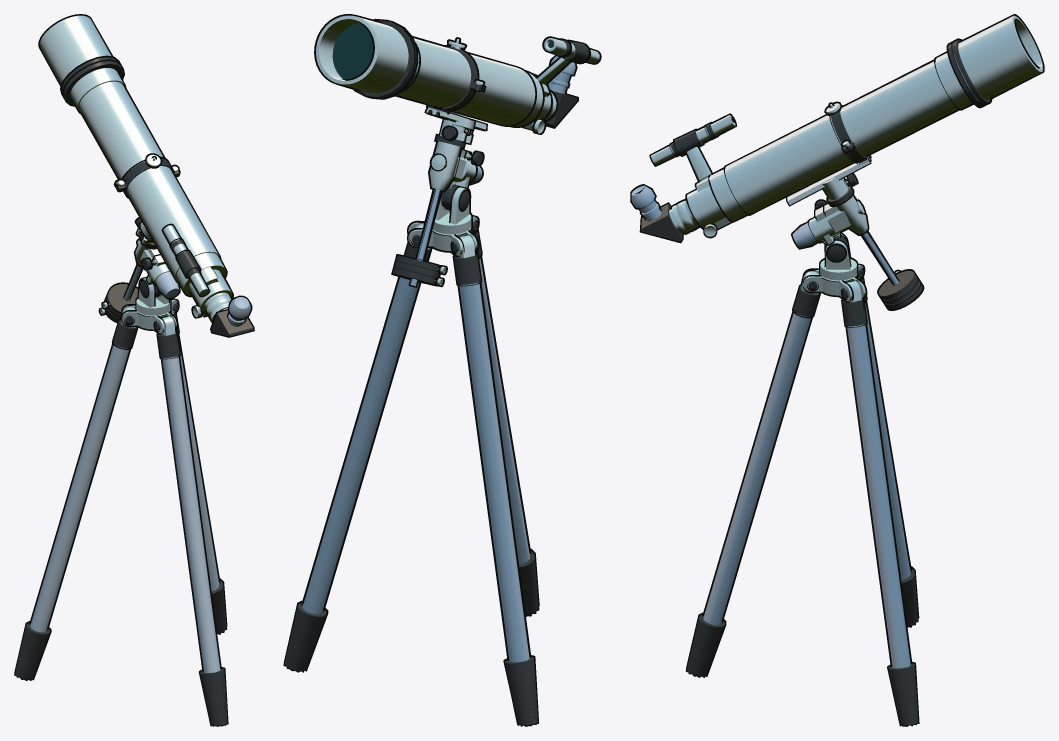
3 renders of one model, left to right at view 1: azimuth 30°, elevation 25°; view 2: azimuth 150°, elevation 25°; view 3: azimuth 270°, elevation 25°, orthographic. The views are drawn at different scales.
Parts seen in each view (by area): view 1: All003, All004; view 2: All003, All004; view 3: All003, All004.
Part boxes in pixels (box(x1,y1,x2,y2)): All003: box(15, 15, 253, 725); All004: box(14, 14, 254, 726); All003: box(284, 15, 599, 725); All004: box(283, 14, 601, 726); All003: box(631, 15, 1043, 725); All004: box(630, 14, 1044, 726).
Size of the model in its own units: 0.5133 by 1.41 by 0.804.
2 materials, 1 textured.
